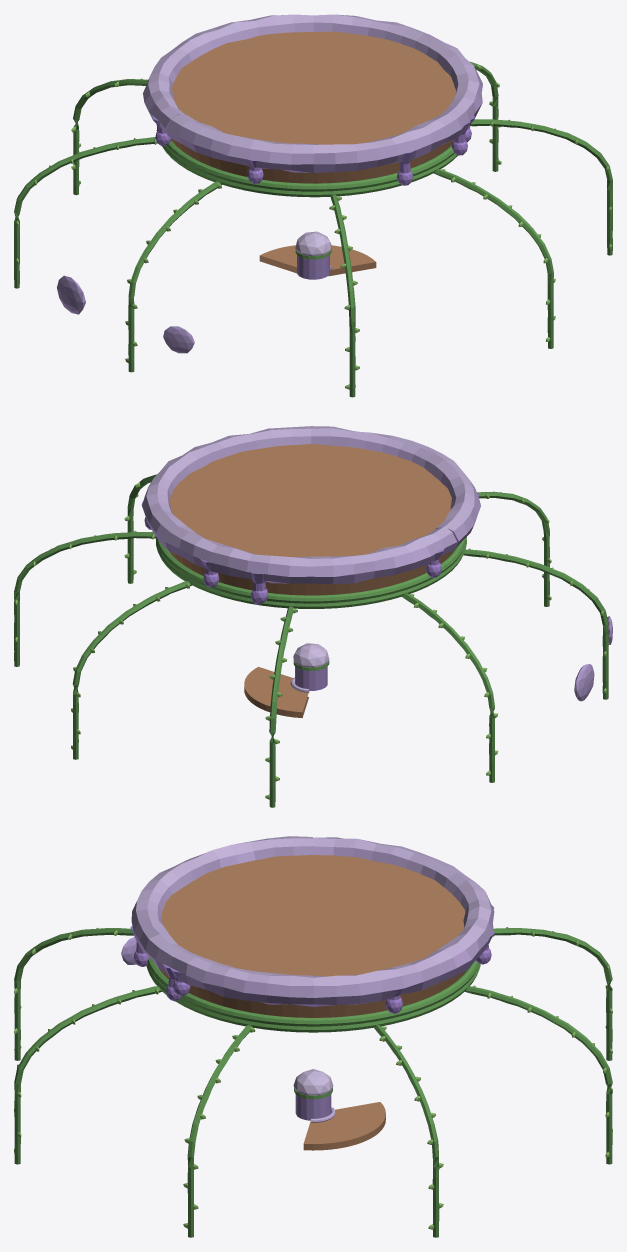
Rendered from goo_jar_trim_2_top@mushroom.fbx.
3 renders of one model, top to bottom at view 1: azimuth 30°, elevation 25°; view 2: azimuth 150°, elevation 25°; view 3: azimuth 270°, elevation 25°, orthographic. The views are drawn at different scales.
Parts seen in each view (by area): view 1: goo_jar_trim_2_top; view 2: goo_jar_trim_2_top; view 3: goo_jar_trim_2_top.
Part boxes in pixels (x1,y1,x2,y2): goo_jar_trim_2_top: [14, 14, 612, 397]; goo_jar_trim_2_top: [14, 426, 612, 807]; goo_jar_trim_2_top: [14, 836, 612, 1237].
Size of the model in its own units: 53.06 by 20.05 by 50.84.
